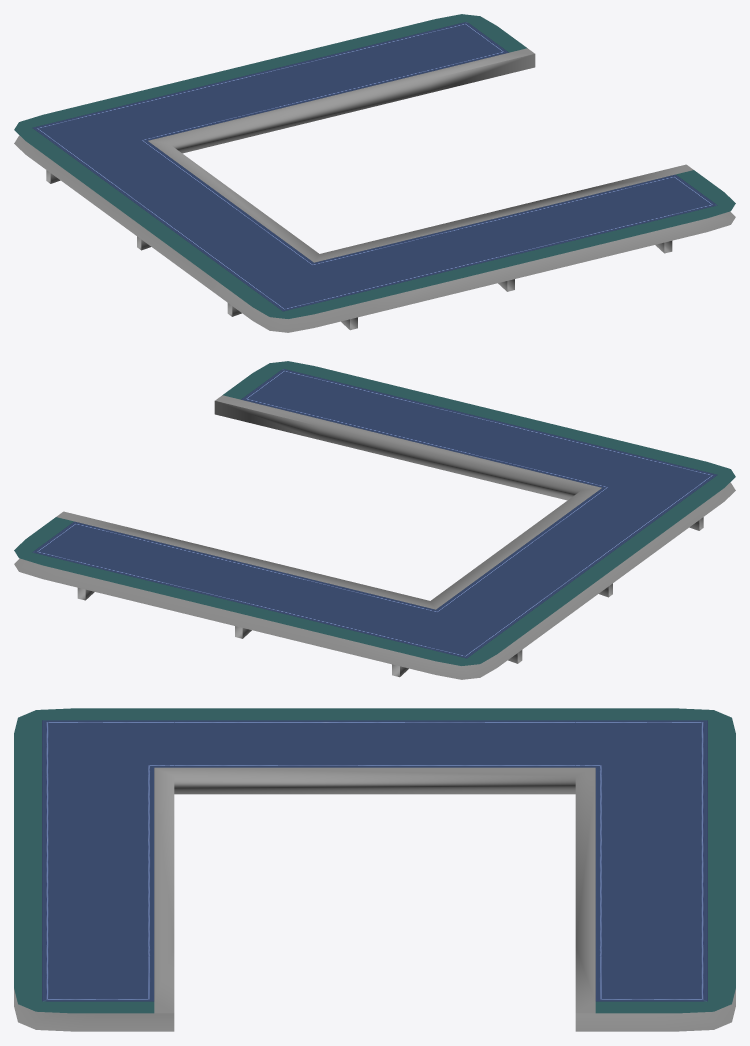
The model's file is IceMaze_Ledge03.FBX.
3 views of the same model, one above another, from view 1: azimuth 30°, elevation 25°; view 2: azimuth 150°, elevation 25°; view 3: azimuth 270°, elevation 25° (orthographic). The views are drawn at different scales.
Parts seen in each view (by area): view 1: IceMaze_Ledge03_Floor, IceMaze_Ledge03; view 2: IceMaze_Ledge03_Floor, IceMaze_Ledge03; view 3: IceMaze_Ledge03_Floor, IceMaze_Ledge03.
Part boxes in pixels (box(x1,y1,x2,y2)): IceMaze_Ledge03_Floor: box(14, 14, 735, 318); IceMaze_Ledge03: box(14, 48, 735, 332); IceMaze_Ledge03_Floor: box(14, 361, 735, 665); IceMaze_Ledge03: box(14, 395, 735, 679); IceMaze_Ledge03_Floor: box(14, 708, 735, 1013); IceMaze_Ledge03: box(14, 767, 735, 1031).
Size of the model in its own units: 18 by 0.9 by 18.
